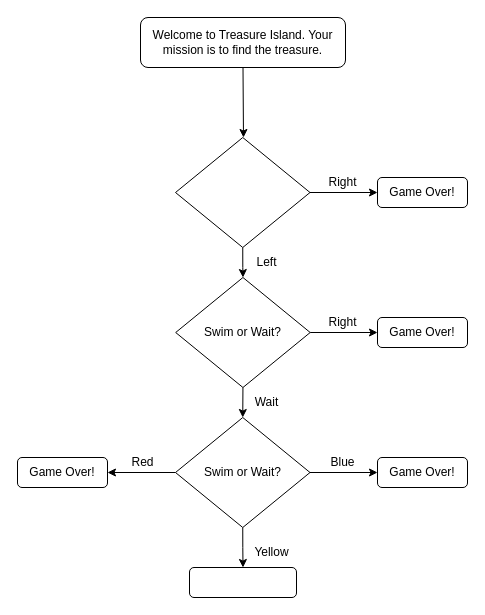
This 485x615 diagram has some shape labels left out. The shapes that lost their labels are listed below. From the top down, each one's centre as x and y in pixels, then its label:
At point 242,192: "Left or Right?".
At point 242,582: "You Win!".
